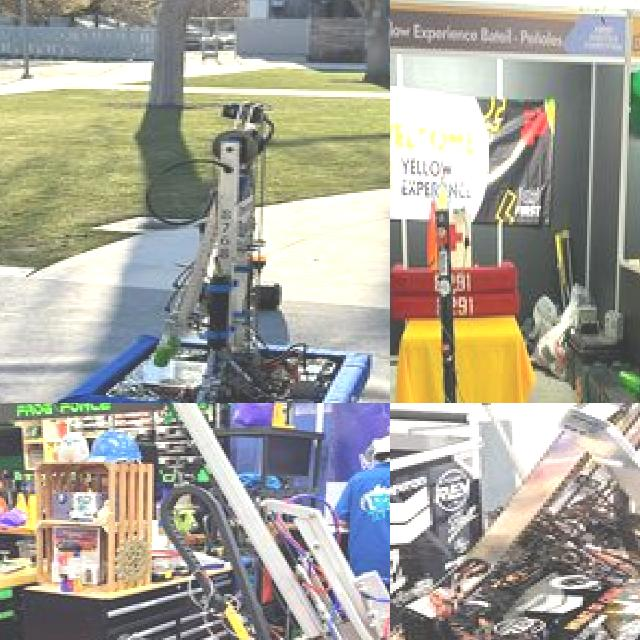FRC-Robots: (45, 80, 390, 403), (0, 403, 390, 640), (390, 158, 626, 403), (419, 403, 640, 640)
